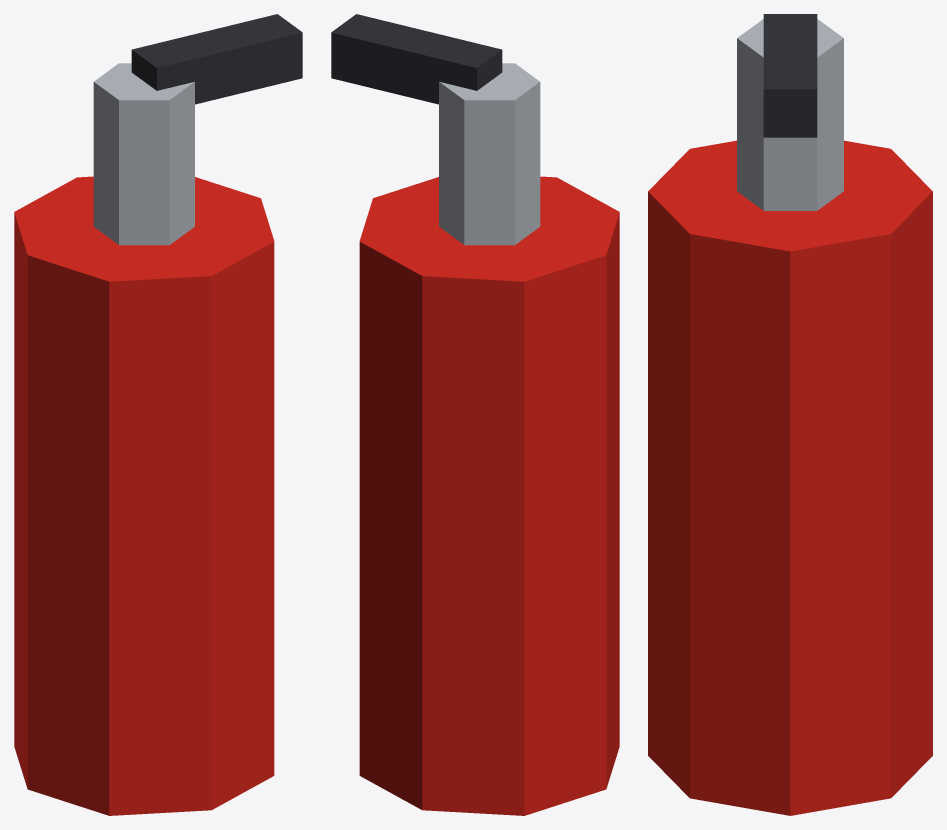
The model's file is garage_fire_extinguisher.glb.
3 views of the same model, side by side, from view 1: azimuth 30°, elevation 25°; view 2: azimuth 150°, elevation 25°; view 3: azimuth 270°, elevation 25° (orthographic). The views are drawn at different scales.
Parts seen in each view (by area): view 1: fire_extinguisher; view 2: fire_extinguisher; view 3: fire_extinguisher.
Boxes of the visible parts, box(x1,y1,x2,y2) form: fire_extinguisher: box(14, 14, 302, 815); fire_extinguisher: box(331, 14, 619, 815); fire_extinguisher: box(648, 14, 932, 815).
Size of the model in its own units: 0.18 by 0.46 by 0.16.
